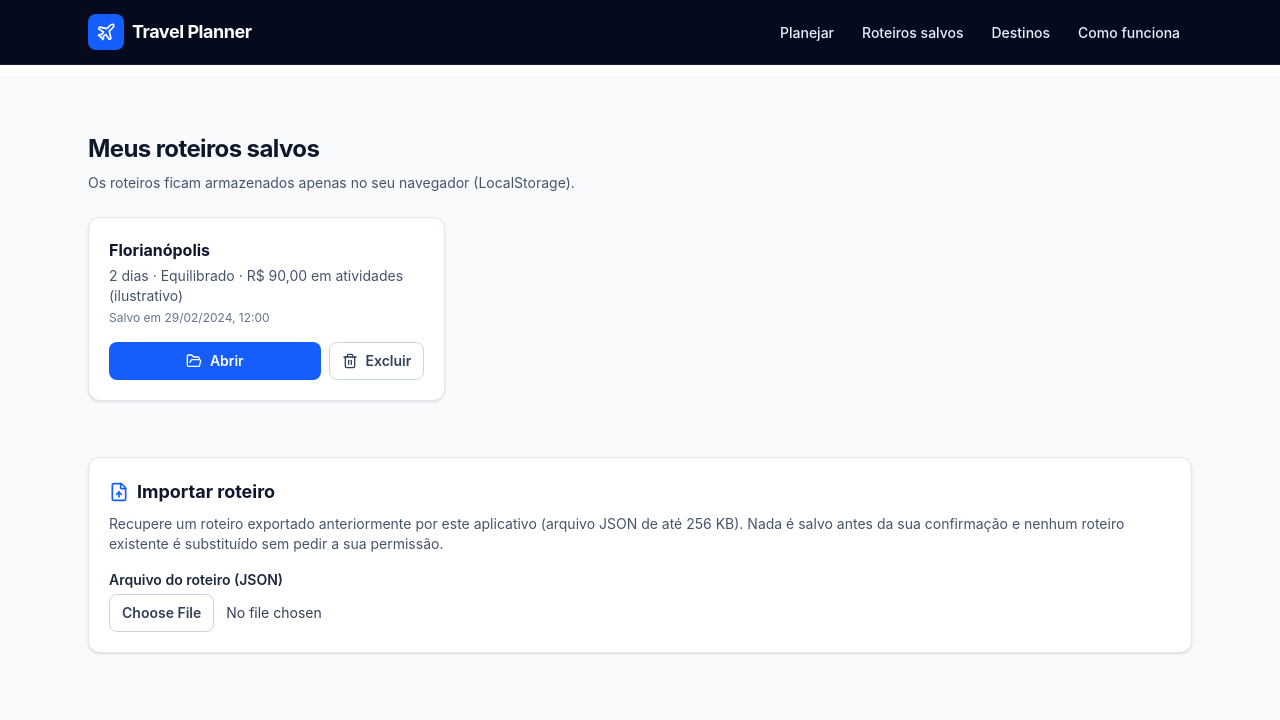
Test case: AUD-02 — mensagens correspondentes ao estado real › reproduz o cenário exato do AUD-02: escrita efetiva + leituras falhas NÃO podem afirmar "Nenhum dado foi alterado"
(page scrolled)
Click the button with aria-label "Excluir roteiro de Florianópolis". click: (376,361)
box: [329,342,424,380]
(page scrolled)
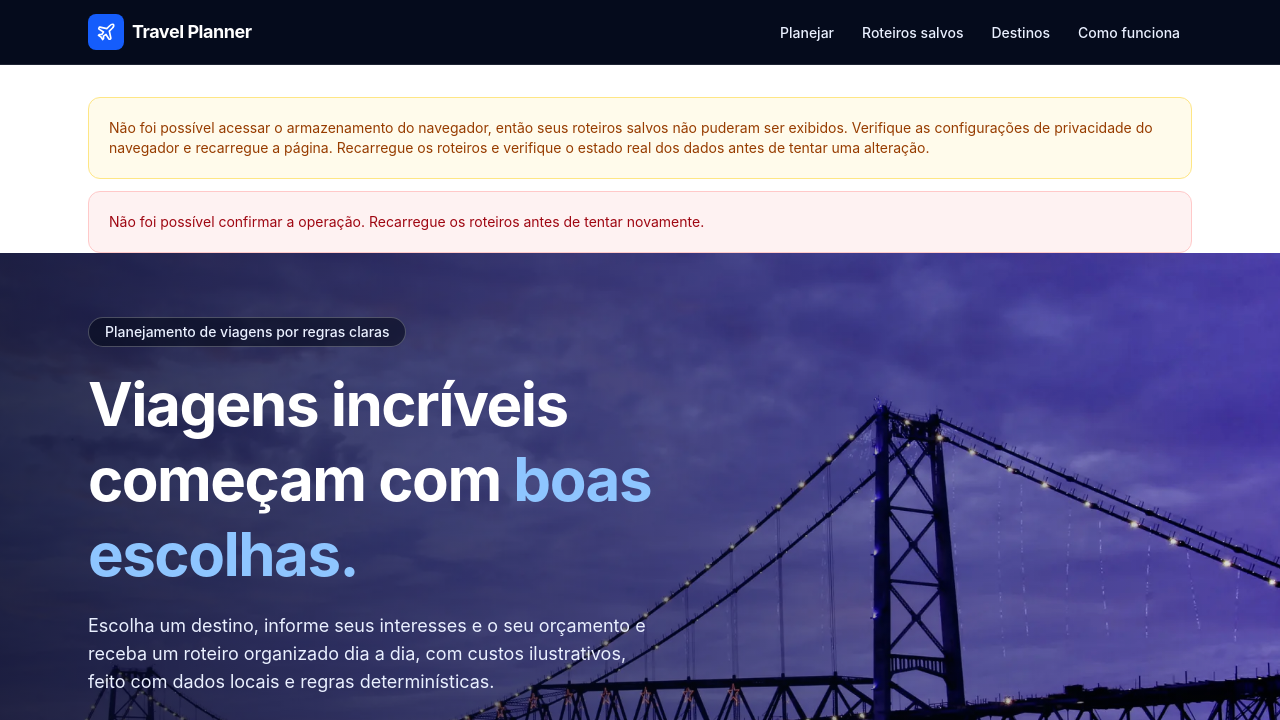
Expected: the text "Não foi possível confirmar a operação. Recarregue os roteiros antes de tentar novamente." is shown, [109,213,704,230]
Expected: the text "Não foi possível acessar o armazenamento do navegador" is shown, [109,119,1153,156]
